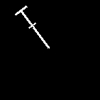double_crochet: (15, 6, 48, 47)
